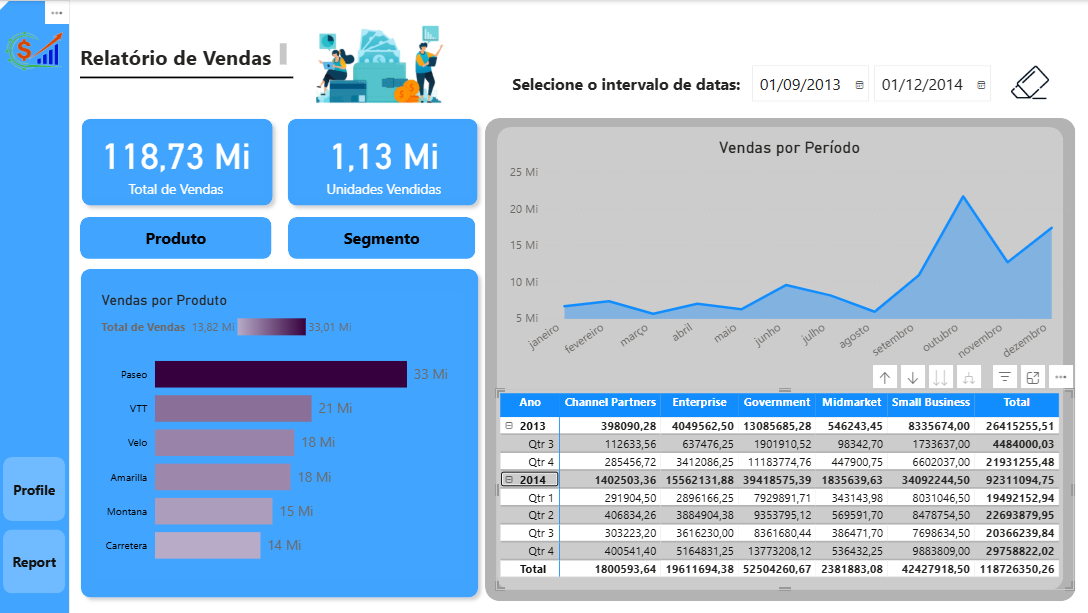

The dashboard page shown, as its layout file describes it:
{"tool":"powerbi","page":{"name":"Sales","canvas":[1280,720],"ordinal":0},"visuals":[{"type":"slicer","title":"Intervalo_datas","fields":{"Values":["financials.Date"]},"box":[870.2,67.3,320,56.8],"z":0,"group":"g1"},{"type":"shape","box":[570.3,138.2,692.5,566.6],"z":0},{"type":"shape","box":[0,0,83.2,719.9],"z":1000},{"type":"textbox","title":"Selecao_datas","box":[596.6,80.7,296.5,41.8],"z":1000,"group":"g1"},{"type":"actionButton","title":"Botao_reset_data","box":[1167.3,61.3,72.3,62.8],"z":2000,"group":"g1"},{"type":"shape","box":[94.5,84.3,250.4,12.8],"z":2000},{"type":"shape","box":[87.6,129.6,241.9,119.7],"z":3000},{"type":"textbox","box":[90.7,46,251.7,38.3],"z":4000},{"type":"shape","box":[329.6,129.6,240.7,119.7],"z":5000},{"type":"shape","box":[86.9,306.6,484.2,403.7],"z":6000},{"type":"image","title":"Reset_datas","box":[1178.3,64.3,61.3,64.3],"z":7000},{"type":"shape","box":[583.8,149.4,664.1,543.1],"z":8000},{"type":"areaChart","title":"Vendas por Período","fields":{"Category":["financials.Date.Variation.Hierarquia de datas.Mês"],"Y":["Sum(financials. Sales)"]},"box":[593.6,161.5,666.9,281.1],"z":9000},{"type":"image","title":"Logo","box":[0,1.2,83.3,116.1],"z":10000},{"type":"card","fields":{"Values":["Sum(financials.Units Sold)"]},"box":[345.5,146.9,210.5,86],"z":11000},{"type":"group","id":"g1","title":"Filtro_datas","box":[596.6,61.3,643,62.8],"z":12000},{"type":"image","box":[367.5,3.1,158.8,143.3],"z":14000},{"type":"clusteredBarChart","title":"Vendas por Produto","fields":{"Y":["Sum(financials. Sales)"],"Category":["financials.Product"]},"box":[115.2,341.5,428.9,336.2],"z":16000},{"type":"actionButton","title":"B. Segmento","box":[339.4,254.3,219.7,49.4],"z":17000},{"type":"card","fields":{"Values":["Sum(financials. Sales)"]},"box":[101.9,146.9,210.5,86],"z":18000},{"type":"actionButton","title":"B. Produto","box":[95,254.3,224.6,49.4],"z":19000},{"type":"pivotTable","fields":{"Values":["Sum(financials. Sales)"],"Columns":["financials.Segment"],"Rows":["financials.Date.Variation.Hierarquia de datas.Ano","financials.Date.Variation.Hierarquia de datas.Trimestre"]},"box":[583.2,456.1,677.4,236.3],"z":20000},{"type":"pageNavigator","box":[4.5,535.3,73.3,160],"z":21000}]}

Visuals, with their boxes on the page's 1280x720 design canvas (x1, y1, x2, y2). These are canvas units, not pixel positions in the 1088x613 screenshot, which may show the page scaled, cropped or inside an application window:
"Intervalo_datas" slicer: region(870, 67, 1190, 124)
shape: region(570, 138, 1263, 705)
shape: region(0, 0, 83, 720)
"Selecao_datas" textbox: region(597, 81, 893, 122)
"Botao_reset_data" actionButton: region(1167, 61, 1240, 124)
shape: region(94, 84, 345, 97)
shape: region(88, 130, 330, 249)
textbox: region(91, 46, 342, 84)
shape: region(330, 130, 570, 249)
shape: region(87, 307, 571, 710)
"Reset_datas" image: region(1178, 64, 1240, 129)
shape: region(584, 149, 1248, 692)
"Vendas por Período" areaChart: region(594, 162, 1260, 443)
"Logo" image: region(0, 1, 83, 117)
card - Sum(financials.Units Sold): region(346, 147, 556, 233)
"Filtro_datas" group: region(597, 61, 1240, 124)
image: region(368, 3, 526, 146)
"Vendas por Produto" clusteredBarChart: region(115, 342, 544, 678)
"B. Segmento" actionButton: region(339, 254, 559, 304)
card - Sum(financials. Sales): region(102, 147, 312, 233)
"B. Produto" actionButton: region(95, 254, 320, 304)
pivotTable - Sum(financials. Sales) x financials.Segment: region(583, 456, 1261, 692)
pageNavigator: region(4, 535, 78, 695)
